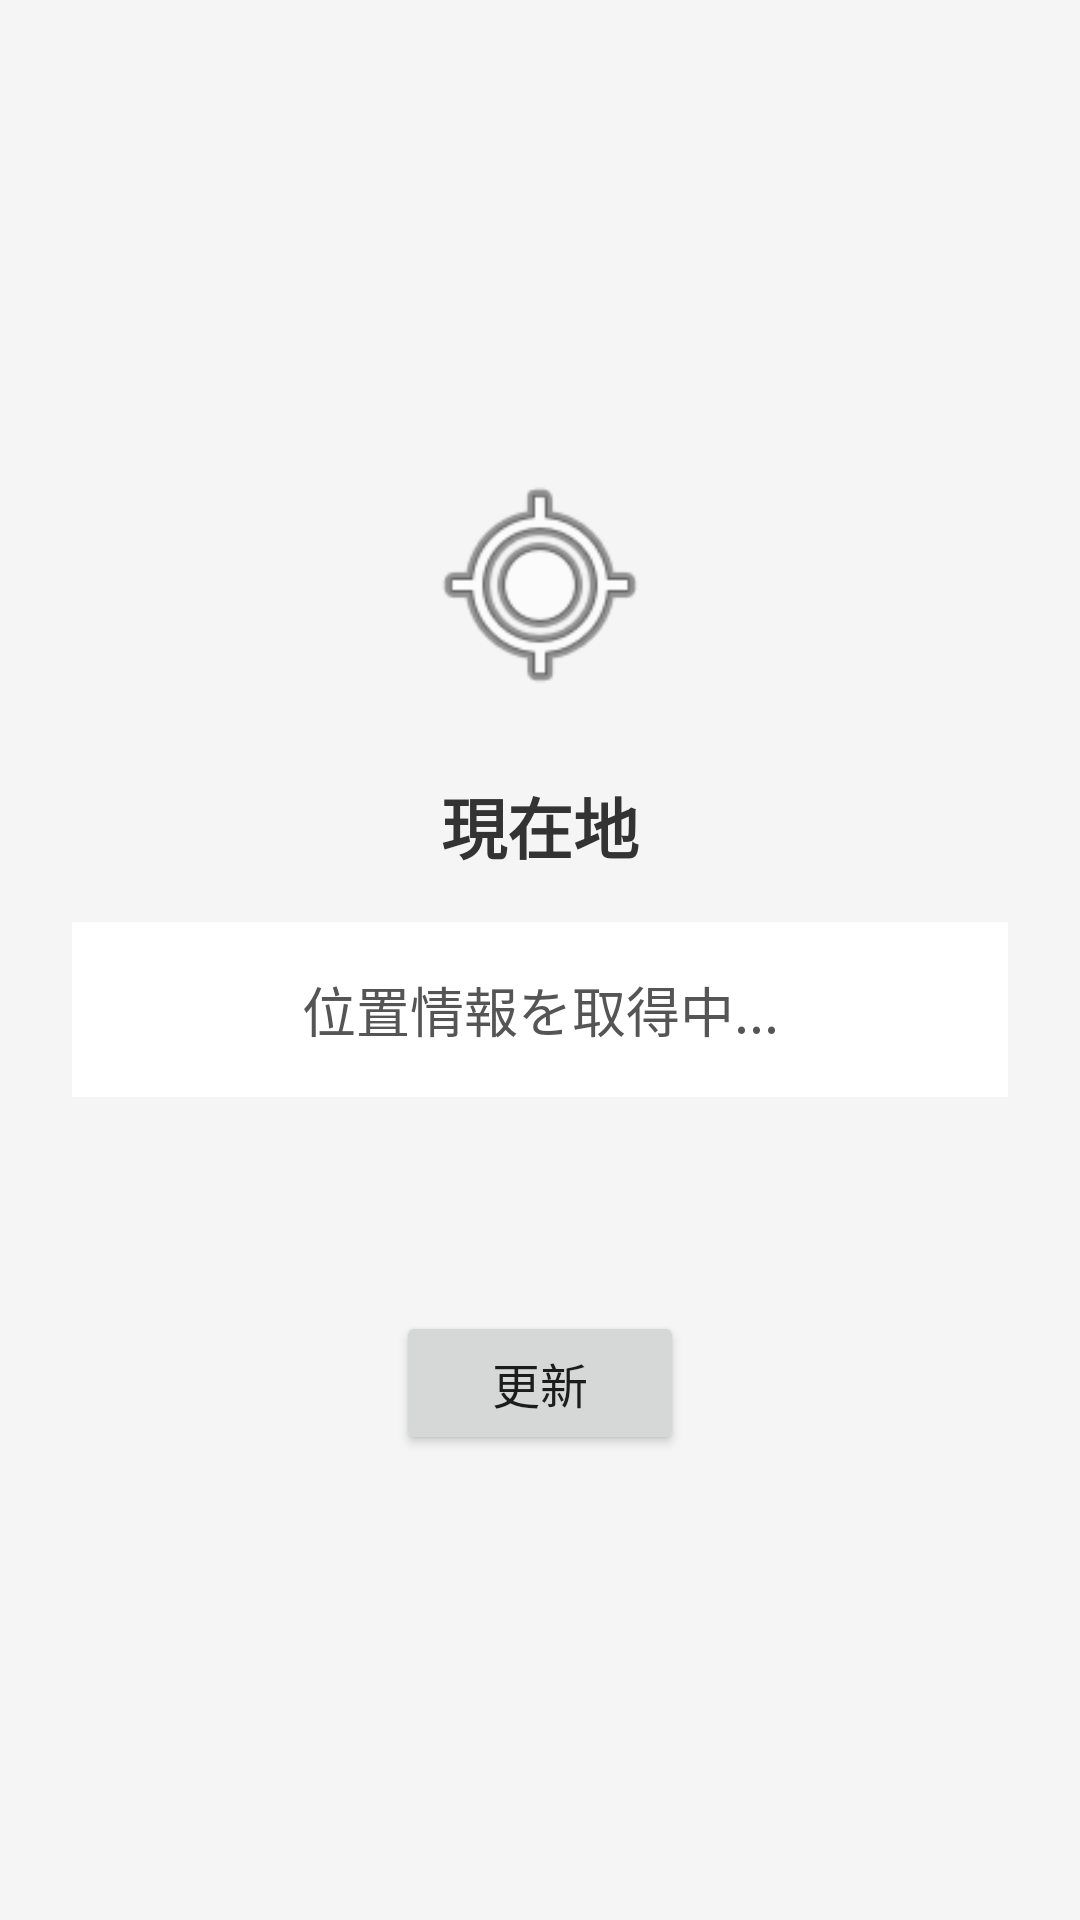

Where icons sit on this 1080×1920 app screen, as bbox(x1, y1, x2, y2):
mylocation: bbox(444, 489, 636, 681)
